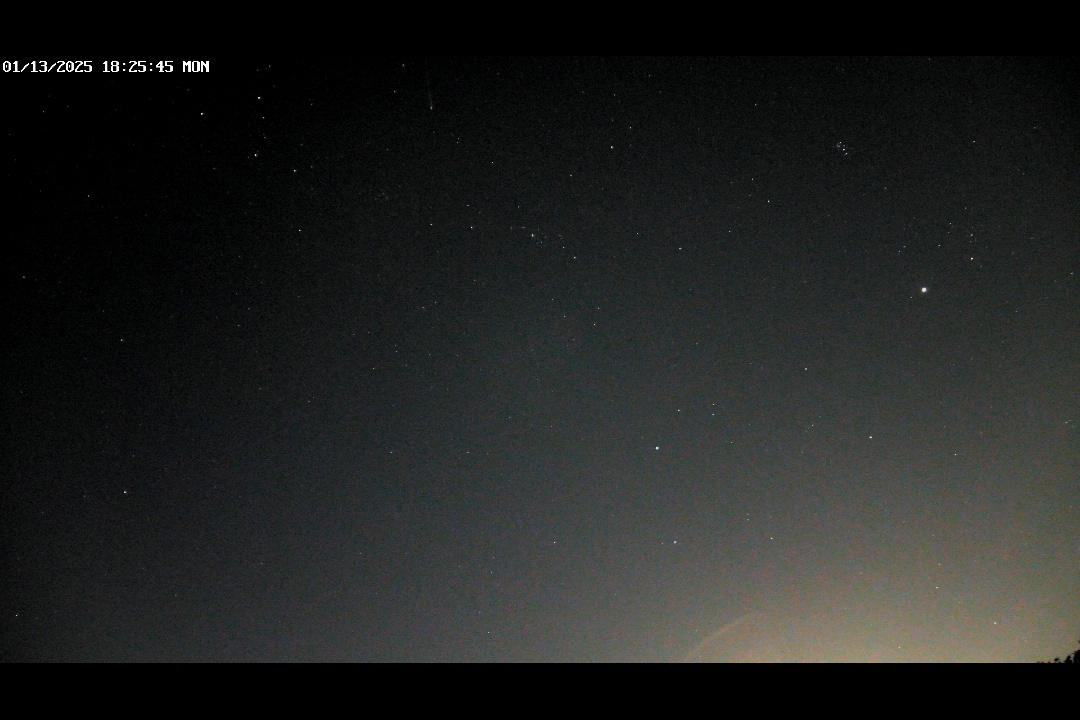Plane: (420, 74, 445, 115)
